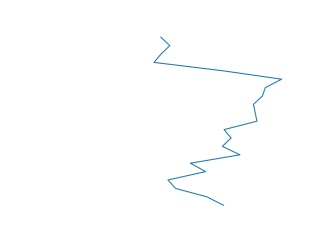floodPlain: (151, 36, 285, 209)
